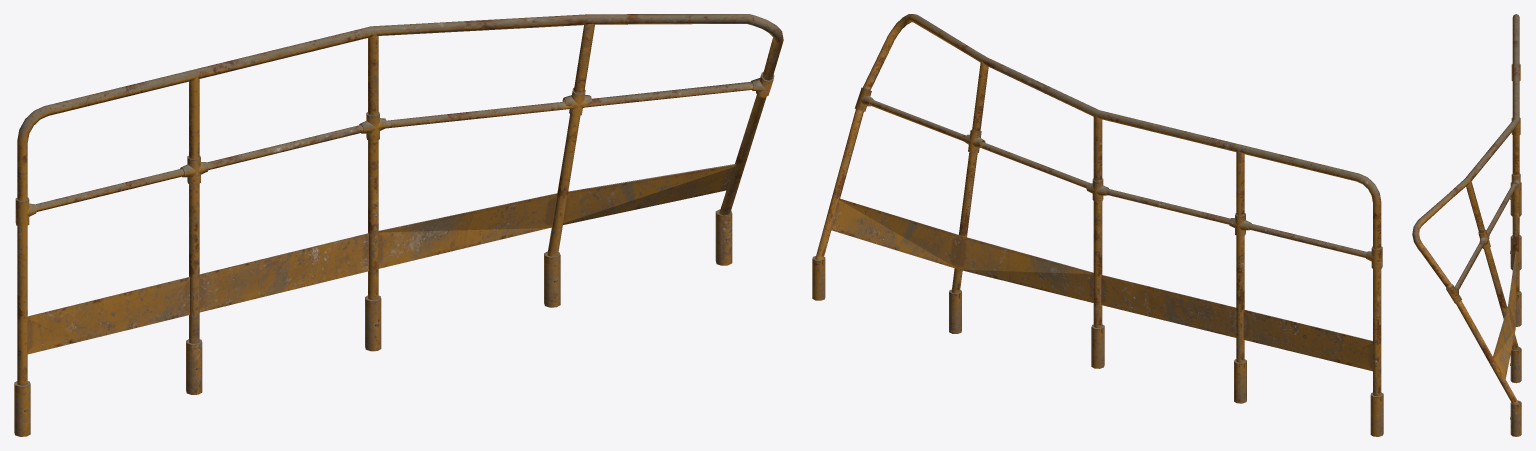
File: Railing01a_Broken.fbx
The picture shows the model from 3 angles, left to right: view 1: azimuth 30°, elevation 25°; view 2: azimuth 150°, elevation 25°; view 3: azimuth 270°, elevation 25°; orthographic projection. The views are drawn at different scales.
Parts seen in each view (by area): view 1: Railing01a_Broken; view 2: Railing01a_Broken; view 3: Railing01a_Broken.
Part boxes in pixels (box(x1,y1,x2,y2)): Railing01a_Broken: box(14, 14, 783, 436); Railing01a_Broken: box(812, 14, 1383, 436); Railing01a_Broken: box(1412, 14, 1521, 436).
Bounding box in the file's own units: 300 × 129 × 61.82.
